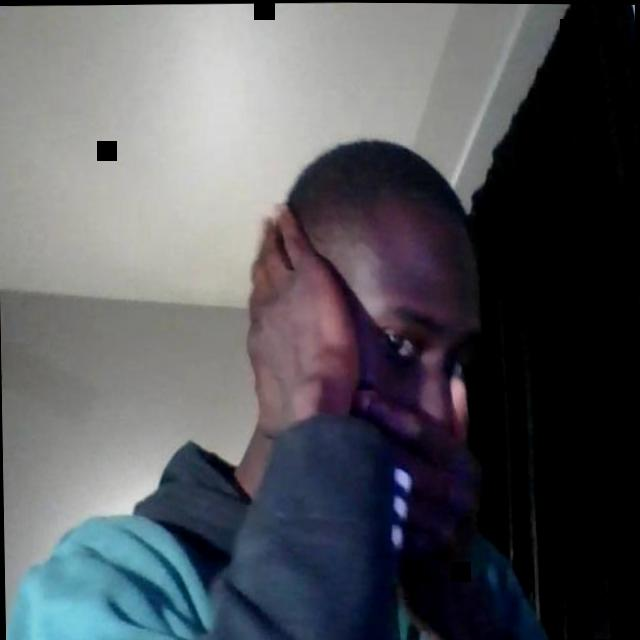NO-Mask: (340, 256, 480, 420)
